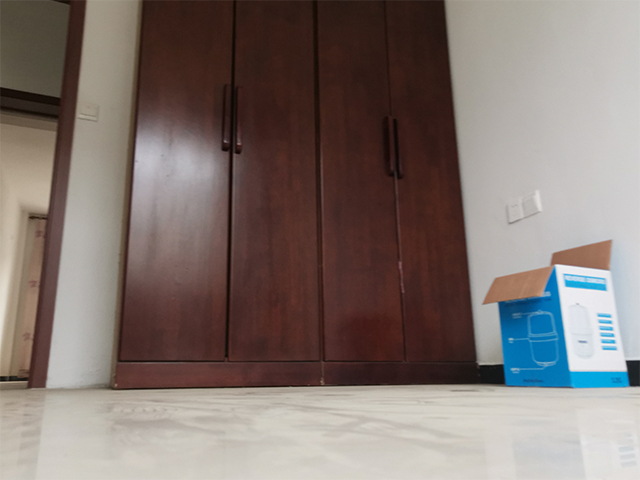cabinet: (106, 1, 483, 392)
curtain: (13, 217, 44, 382)
